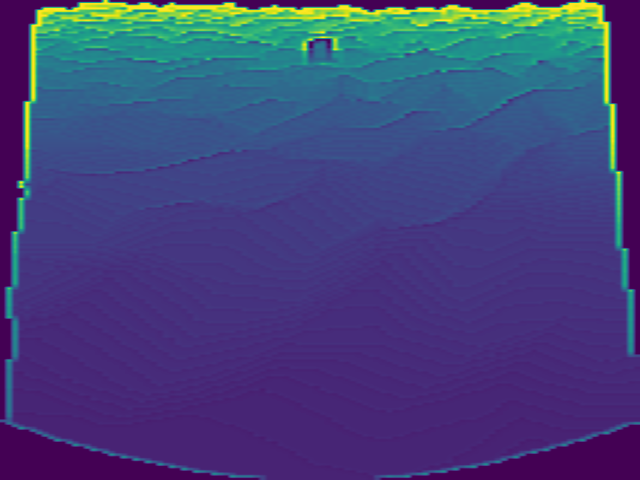car_0198: (305, 37, 335, 64)
